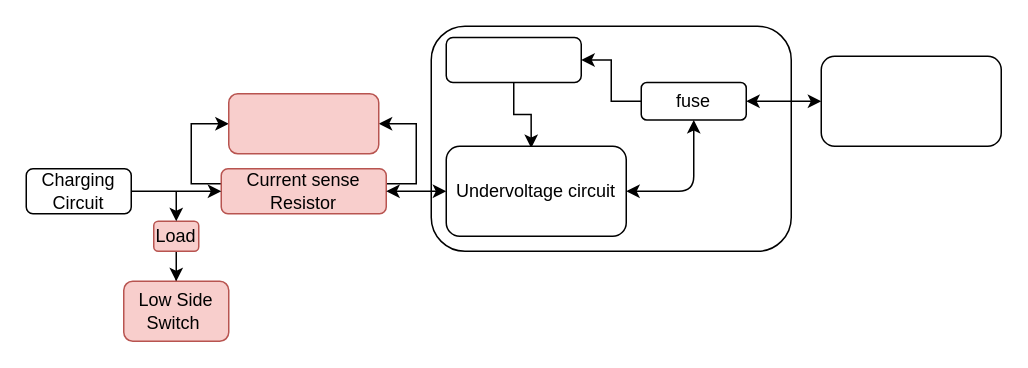
The diagram is 1028 pixels wide and 368 high, and some of its shapes have lost their labels. The shapes that lost their labels are listed below. From the top down, each one's centre as x and y in pixels, then its label:
(513,59): 5V regulator
(910,100): Battery
(303,123): Current sense amplifier
